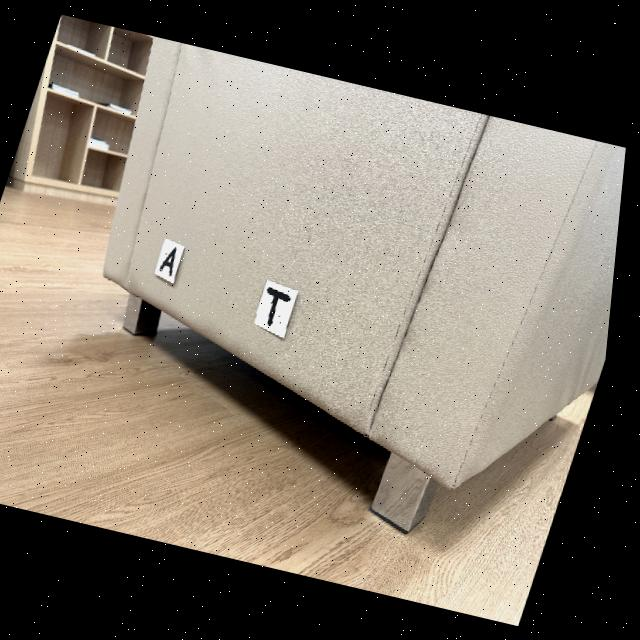A: (164, 247, 182, 276)
T: (272, 287, 296, 326)
